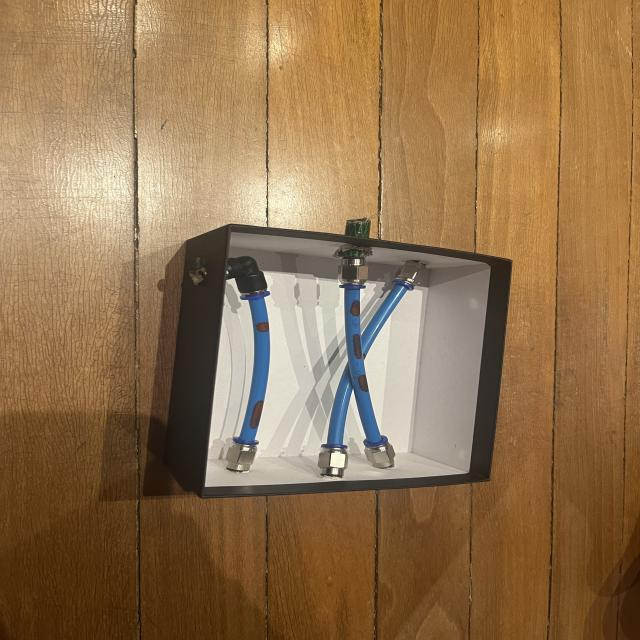hose_damage: (247, 399, 265, 430), (350, 332, 362, 360), (356, 373, 370, 394), (349, 298, 362, 318), (254, 322, 270, 332), (362, 353, 367, 362)
